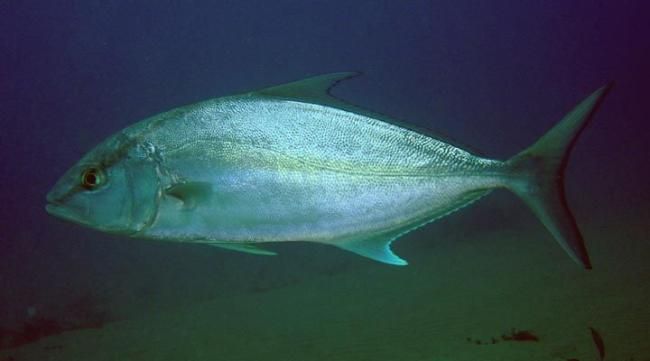fish: (45, 71, 610, 272)
